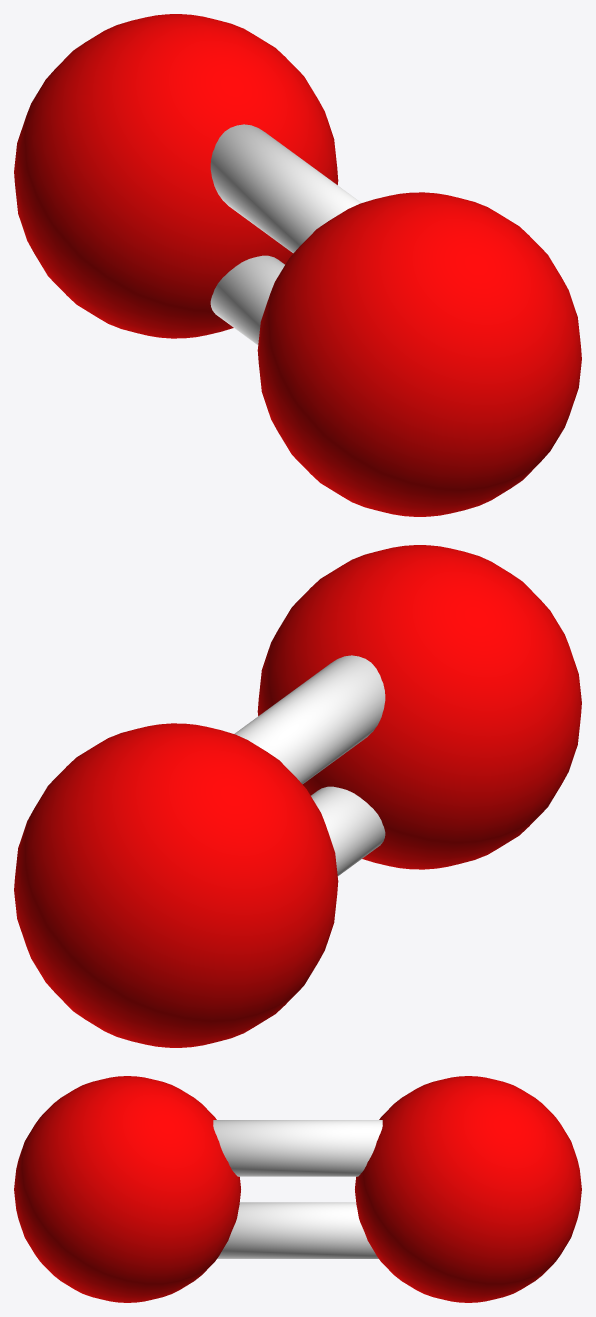
3 views of the same model, one above another, from view 1: azimuth 30°, elevation 25°; view 2: azimuth 150°, elevation 25°; view 3: azimuth 270°, elevation 25° (orthographic). The views are drawn at different scales.
Visible parts, largest first — view 1: o2; view 2: o2; view 3: o2.
Boxes of the visible parts, x1,y1,x2,y2 form: o2: (14,14,581,516); o2: (14,545,581,1047); o2: (14,1076,581,1302).
Size of the model in its own units: 200 by 200 by 500.
